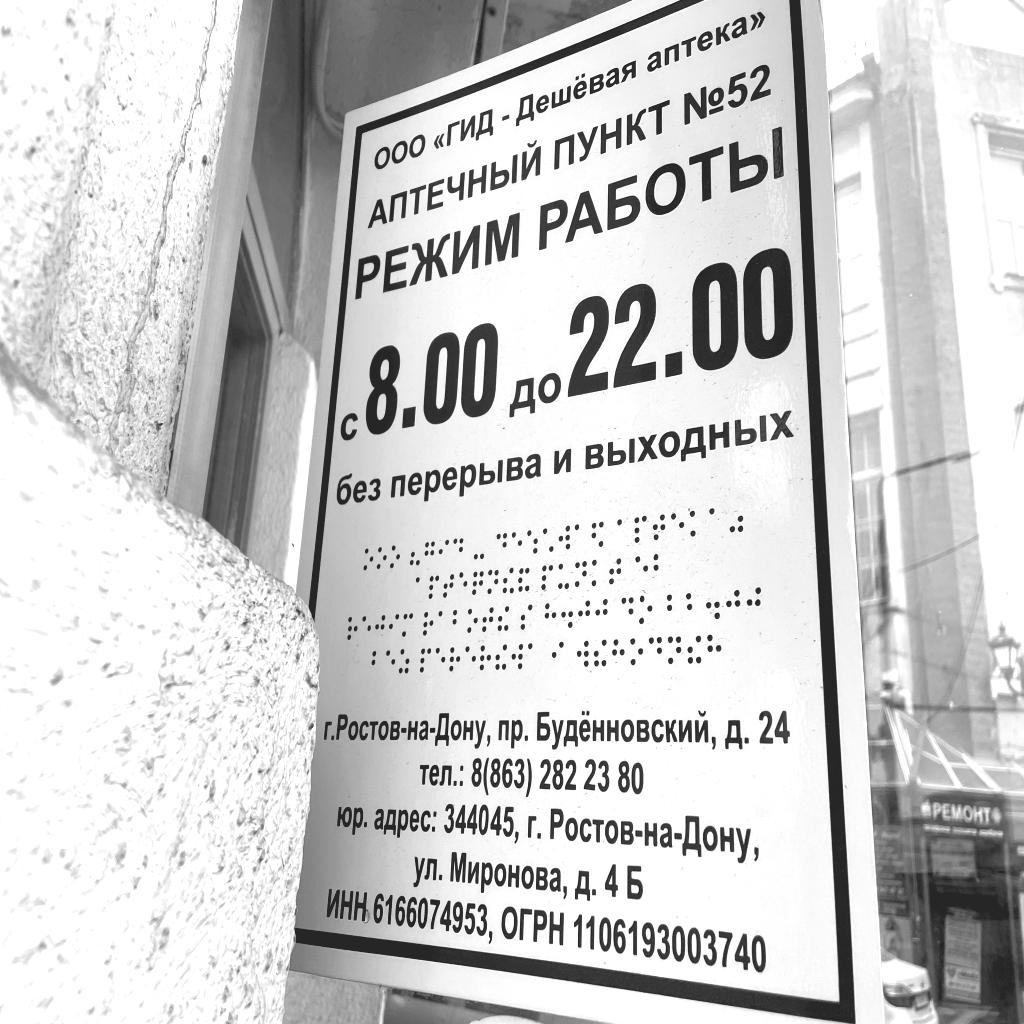_n: (667, 635, 682, 665), (575, 560, 588, 588), (487, 569, 499, 595)
_y: (558, 563, 570, 590)
a: (528, 643, 541, 670), (617, 519, 629, 545), (709, 507, 721, 533), (575, 524, 586, 550), (438, 610, 448, 634), (416, 577, 426, 599)
b: (452, 609, 463, 634), (372, 650, 383, 674)
ch: (472, 570, 484, 597)
d: (649, 636, 663, 665), (621, 596, 634, 626), (497, 532, 508, 557), (453, 537, 464, 561)
defis: (474, 535, 484, 560)
e: (671, 512, 684, 539), (465, 645, 476, 673), (512, 531, 523, 556), (436, 647, 446, 673), (362, 615, 372, 640), (386, 649, 396, 673), (459, 571, 468, 597)
g: (425, 541, 435, 565)
gh: (375, 615, 386, 640)
i: (552, 641, 564, 670), (439, 539, 450, 563), (389, 613, 399, 639)
iKratkoe: (518, 567, 530, 593)
ii: (687, 635, 702, 665), (594, 638, 608, 668), (495, 644, 508, 672), (497, 605, 510, 632), (503, 567, 514, 594)
k: (591, 559, 604, 588), (690, 510, 702, 537)
kavichki1: (410, 543, 420, 566)
kavichki2: (730, 504, 743, 534)
m: (402, 612, 414, 638)
o: (639, 595, 653, 625), (630, 638, 644, 667), (467, 608, 479, 634), (390, 545, 401, 569), (363, 548, 374, 571), (377, 547, 387, 570)
p: (634, 515, 647, 543), (541, 564, 554, 591), (419, 647, 432, 674), (428, 575, 440, 601)
r: (479, 644, 492, 672), (449, 647, 461, 672), (347, 616, 358, 642), (423, 611, 434, 637)
s: (520, 603, 533, 631)
sh: (527, 529, 538, 555)
t: (608, 558, 622, 586), (653, 512, 666, 541), (482, 606, 494, 634), (443, 573, 455, 600)
tochka: (706, 586, 720, 621), (561, 598, 573, 629)
v: (576, 639, 590, 668), (558, 524, 571, 551), (511, 643, 523, 672)
x: (707, 634, 721, 664), (612, 639, 625, 668)
ya: (592, 520, 604, 547)
yo: (543, 528, 554, 553)
z: (398, 648, 409, 675)
